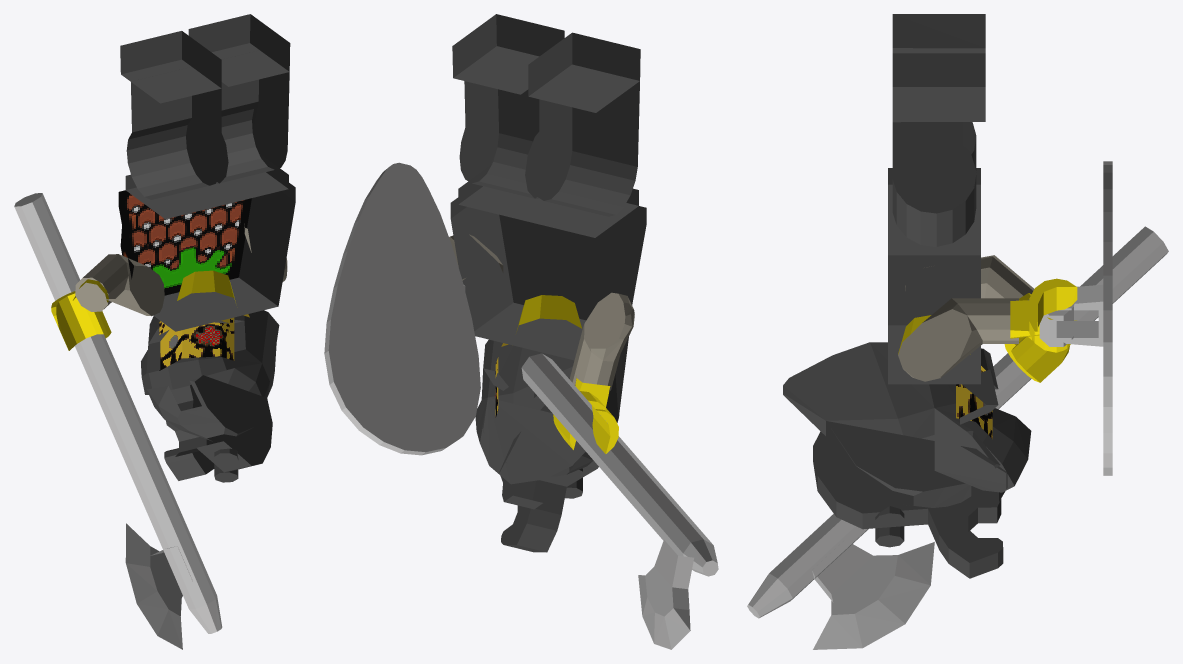
The model's file is minifiggilbertbad01.glb.
3 views of the same model, side by side, from view 1: azimuth 30°, elevation 25°; view 2: azimuth 150°, elevation 25°; view 3: azimuth 270°, elevation 25° (orthographic). The views are drawn at different scales.
Visible parts, largest first — view 1: 024_shape11, 031_shape15, 022_shape10, 019_shape8, 015_shape5, 021_shape9, 017_shape7, 027_shape13, 012_shape3, 033_shape17; view 2: 040_shape21, 022_shape10, 024_shape11, 031_shape15, 019_shape8, 015_shape5, 021_shape9, 017_shape7, 012_shape3, 027_shape13, 033_shape17; view 3: 024_shape11, 031_shape15, 015_shape5, 022_shape10, 017_shape7, 036_shape19, 040_shape21, 021_shape9, 042_shape17, 012_shape3, 033_shape17, 027_shape13.
Part boxes in pixels (x1,y1,x2,y2): 024_shape11: (141, 270, 279, 482); 031_shape15: (14, 193, 222, 649); 022_shape10: (118, 183, 295, 331); 019_shape8: (126, 69, 221, 199); 015_shape5: (216, 52, 289, 183); 021_shape9: (120, 31, 221, 103); 017_shape7: (188, 14, 290, 86); 027_shape13: (75, 254, 164, 316); 012_shape3: (125, 133, 288, 219); 033_shape17: (51, 279, 111, 350); 040_shape21: (324, 162, 480, 455); 022_shape10: (450, 197, 646, 360); 024_shape11: (475, 295, 628, 552); 031_shape15: (521, 353, 718, 649); 019_shape8: (532, 65, 639, 216); 015_shape5: (459, 47, 539, 198); 021_shape9: (528, 32, 640, 112); 017_shape7: (452, 14, 564, 94); 012_shape3: (458, 132, 638, 237); 027_shape13: (569, 292, 634, 391); 033_shape17: (553, 378, 618, 453); 024_shape11: (783, 315, 1031, 578); 031_shape15: (747, 226, 1168, 649); 015_shape5: (892, 122, 976, 246); 022_shape10: (888, 255, 980, 384); 017_shape7: (892, 53, 985, 122); 036_shape19: (898, 298, 1018, 381); 040_shape21: (1039, 161, 1112, 475); 021_shape9: (892, 14, 985, 53); 042_shape17: (1010, 278, 1077, 352); 012_shape3: (888, 145, 980, 255); 033_shape17: (1004, 293, 1069, 382); 027_shape13: (905, 255, 1034, 300).
Bounding box in the file's own units: 2.66 × 6.1 × 3.63.
Materials: 7 (3 with a texture image).
